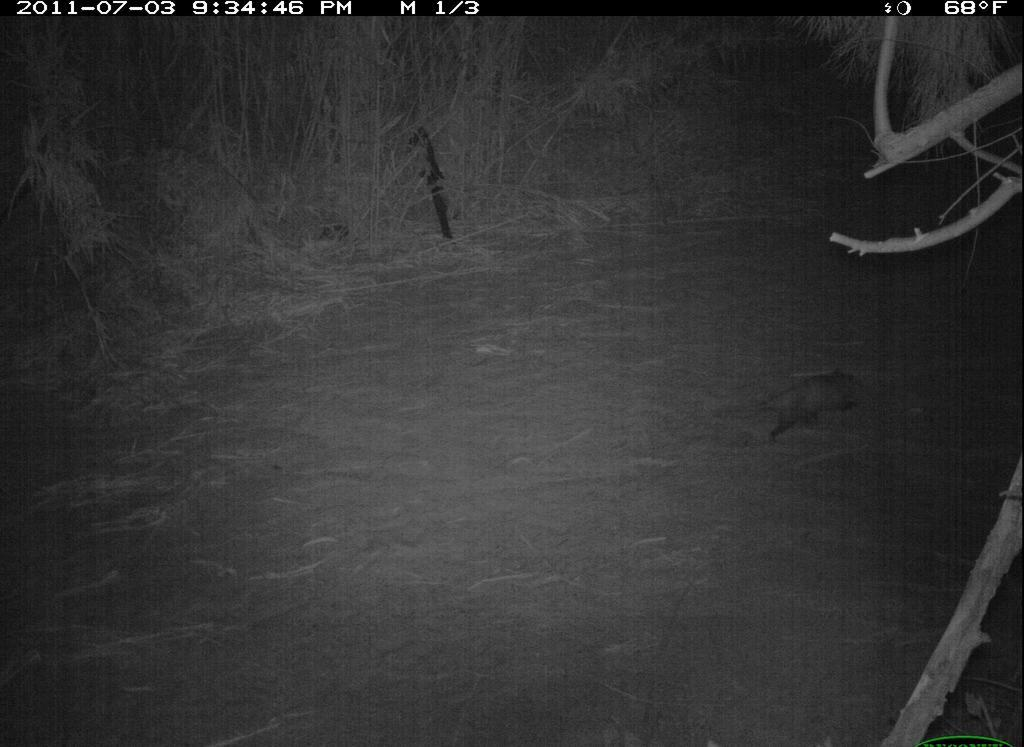opossum: (739, 351, 886, 450)
